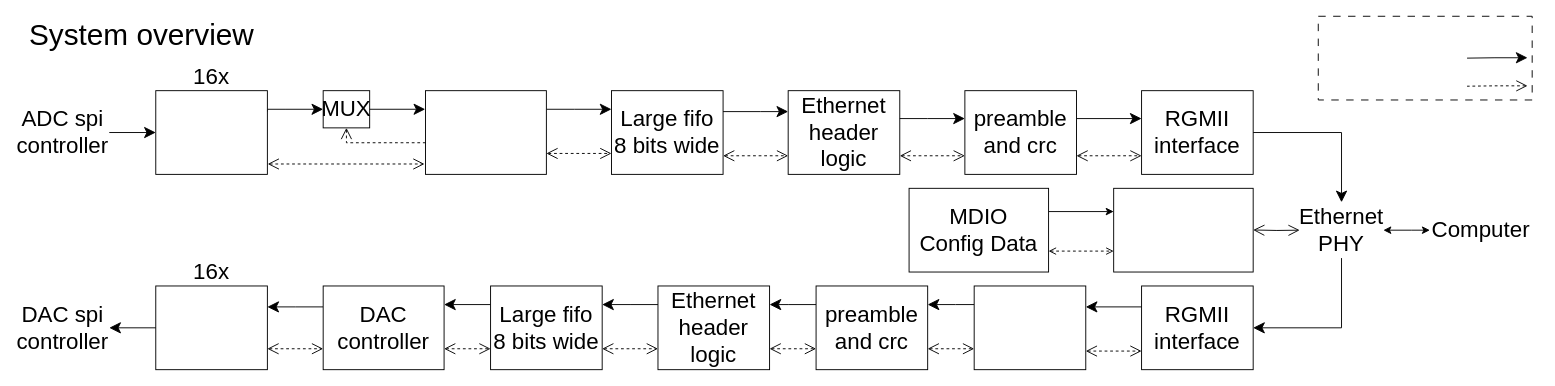
This 1555x386 diagram has some shape labels left out. The shapes that lost their labels are listed below. From the top down, each one's centre as x and y in pixels, then its label:
At [1424,57]: "Legend: Data signal Control signal".
At [211,132]: "Small fifo 24 bit wide".
At [485,132]: "ADC controller".
At [1183,229]: "MDIO Management Interface".
At [211,327]: "Small fifo 16 bit wide".
At [1029,327]: "Buffer for reclocking".
